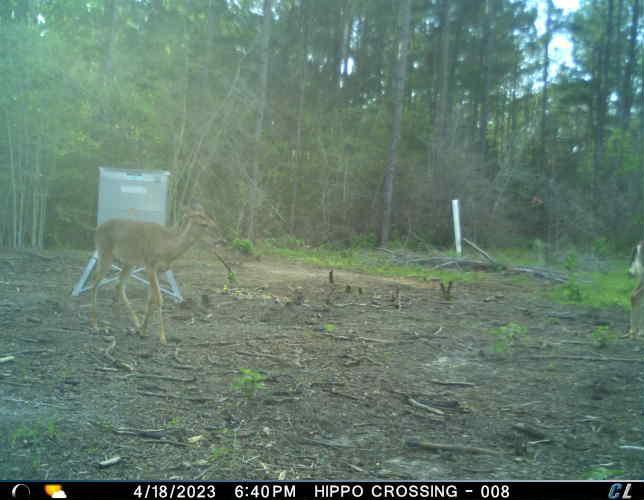Deer: (89, 200, 229, 349), (628, 234, 644, 343)
